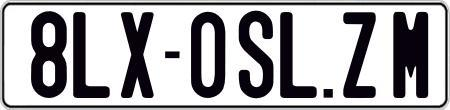0: (188, 12, 227, 99)
8: (29, 9, 71, 97)
L: (280, 10, 321, 99), (70, 12, 110, 99)
M: (392, 9, 431, 98)
S: (237, 11, 277, 100)
X: (119, 10, 158, 98)
Z: (341, 11, 377, 101)
